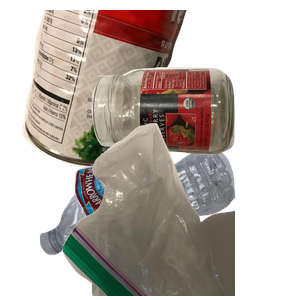glass: (89, 65, 300, 212)
metal: (20, 10, 199, 172)
plastic: (37, 144, 265, 300)
trash: (60, 120, 300, 300)
